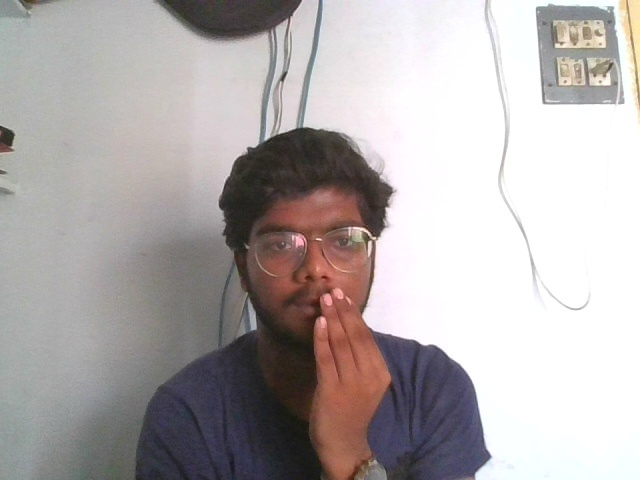Thanks: (299, 285, 398, 443)
